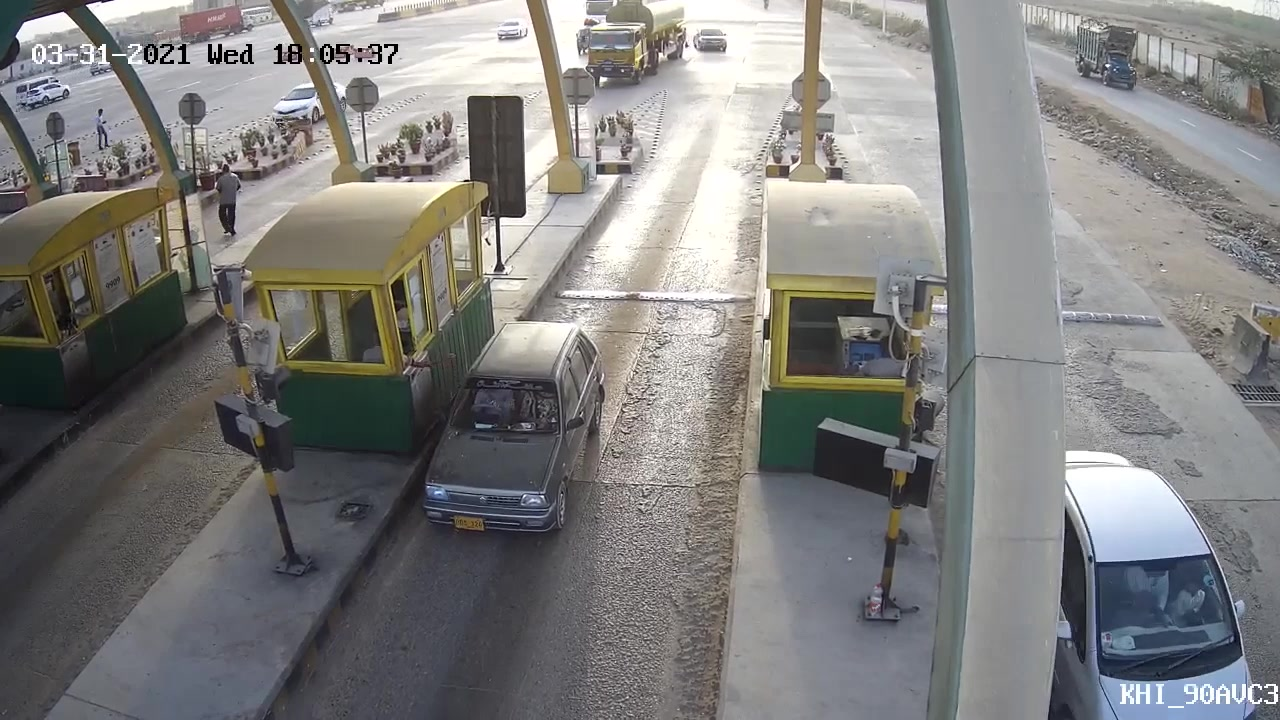F1: (414, 314, 612, 535)
